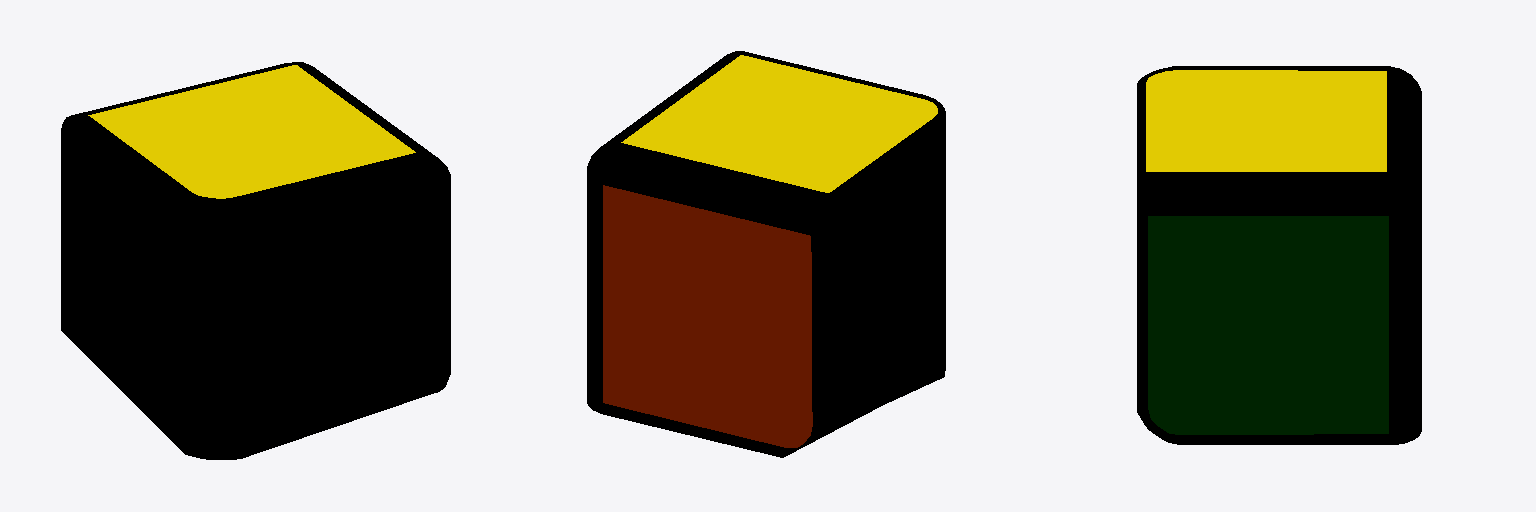
Rendered from cornerYGO.obj.
3 views of the same model, side by side, from view 1: azimuth 30°, elevation 25°; view 2: azimuth 150°, elevation 25°; view 3: azimuth 270°, elevation 25° (orthographic).
Parts seen in each view (by area): view 1: BasicCorner_Plane, ColoredSide1_Plane.001; view 2: BasicCorner_Plane, ColoredSide3_Plane.005, ColoredSide1_Plane.001; view 3: ColoredSide2_Plane.004, BasicCorner_Plane, ColoredSide1_Plane.001.
Part boxes in pixels (left/top/right/bottom): BasicCorner_Plane: left=61, top=62, right=450, bottom=459; ColoredSide1_Plane.001: left=88, top=65, right=415, bottom=198; BasicCorner_Plane: left=587, top=51, right=945, bottom=457; ColoredSide3_Plane.005: left=603, top=185, right=812, bottom=447; ColoredSide1_Plane.001: left=621, top=55, right=937, bottom=192; ColoredSide2_Plane.004: left=1148, top=216, right=1388, bottom=434; BasicCorner_Plane: left=1137, top=66, right=1421, bottom=444; ColoredSide1_Plane.001: left=1146, top=70, right=1386, bottom=171.
Bounding box in the file's own units: 0.1809 × 0.1801 × 0.1809.